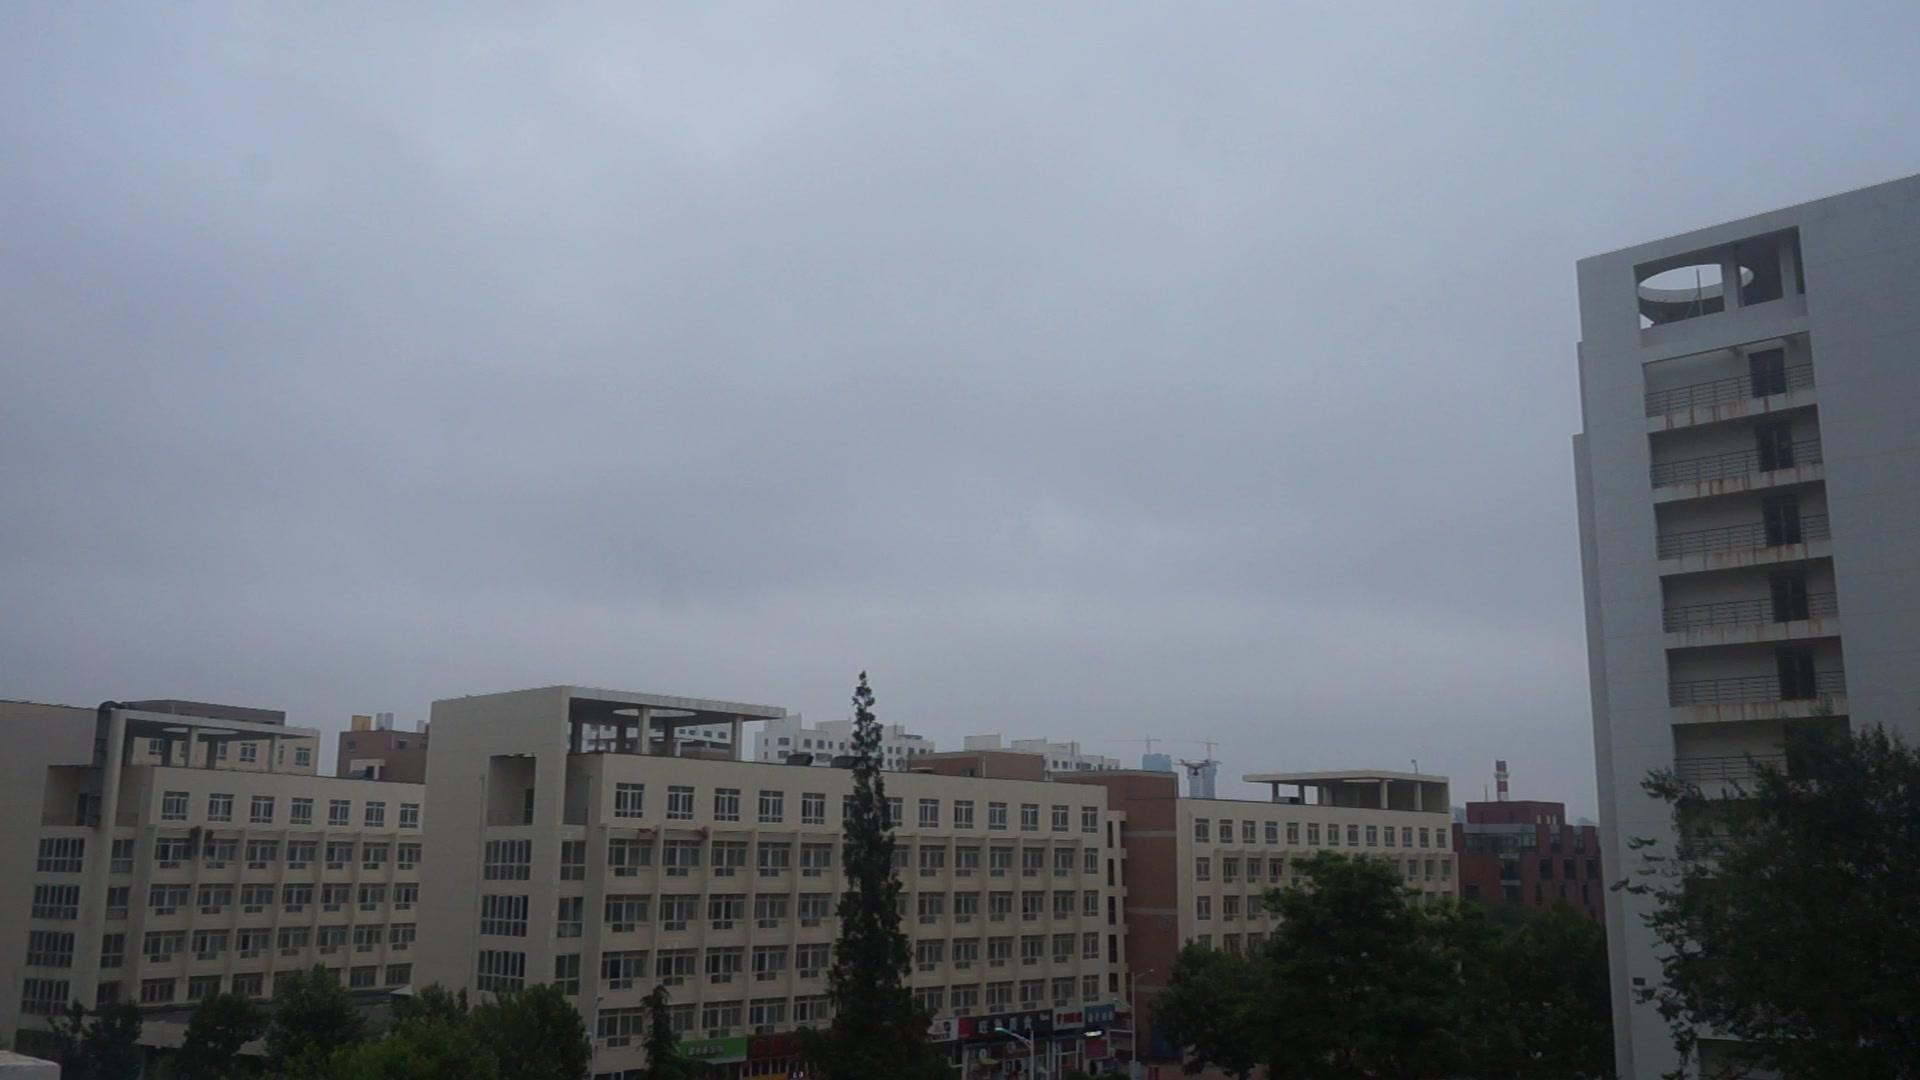UAV: (1174, 760, 1211, 777)
